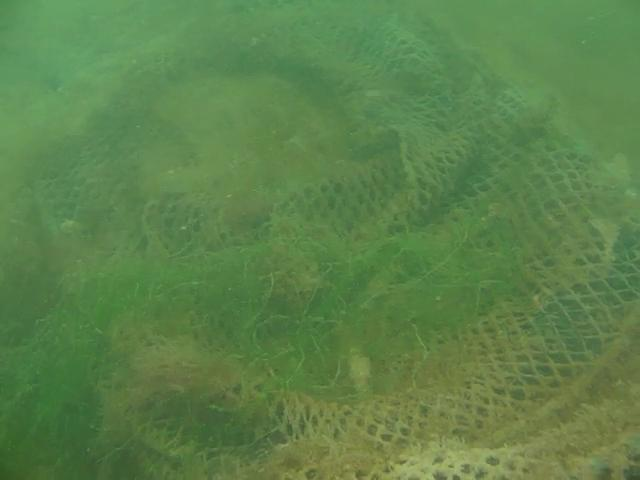fish net: (34, 0, 640, 480)
